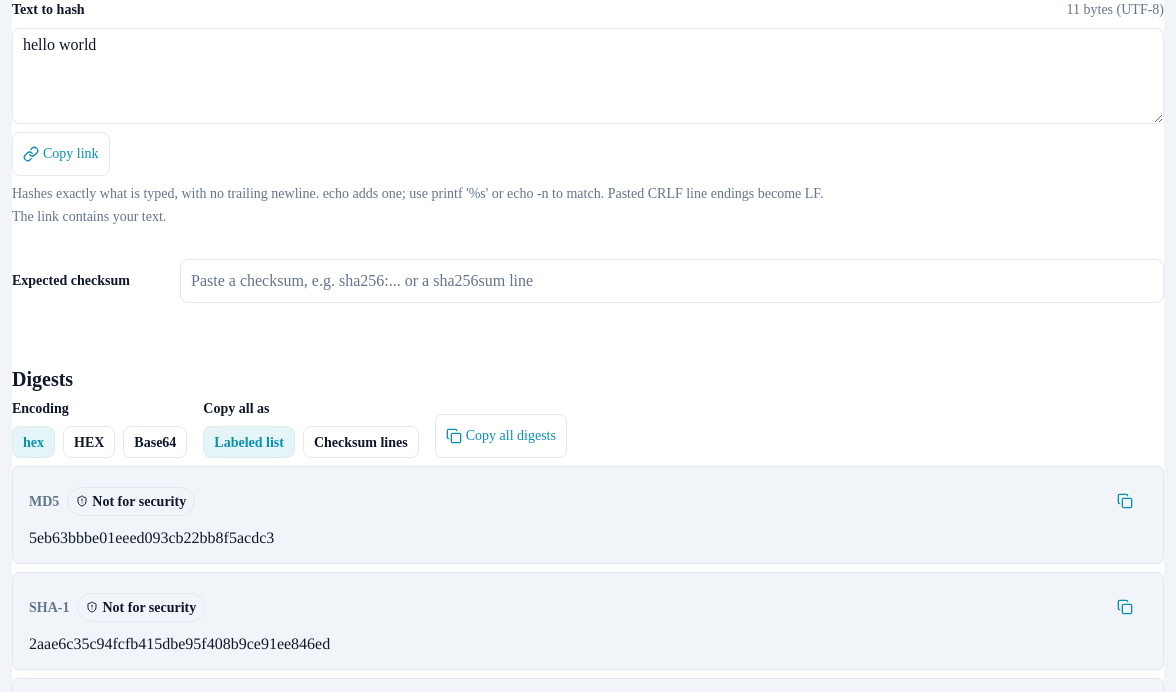
Test: HashTool verify box (OUT-04) › OUT-04: pasting the sample SHA-256 highlights that row and says so
Type "b94d27b9934d3e08a52e52d7da7dabfac484efe37a5380ee9088f7ace2efcde9" into the field with test id "hash-verify" at (672, 281), box top-left (180, 259), bottom-right (1164, 303)
(page scrolled)
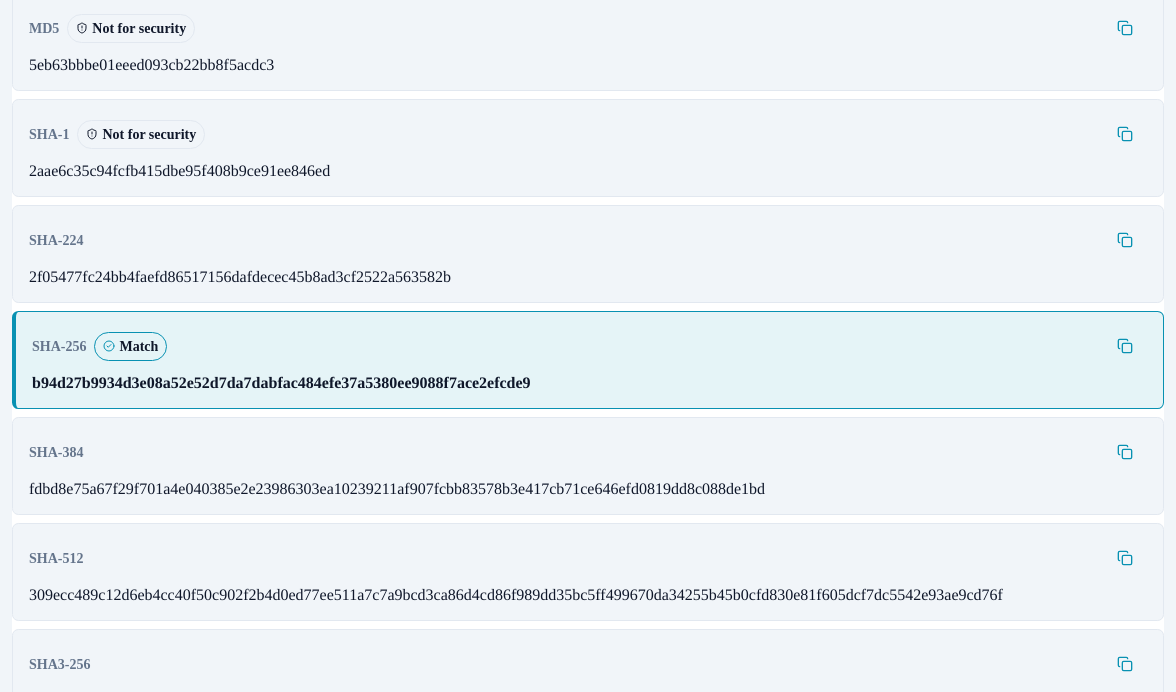
Result: the element with test id "hash-row-sha256-match" reads "Match" at top-left (120, 339), bottom-right (158, 354)
